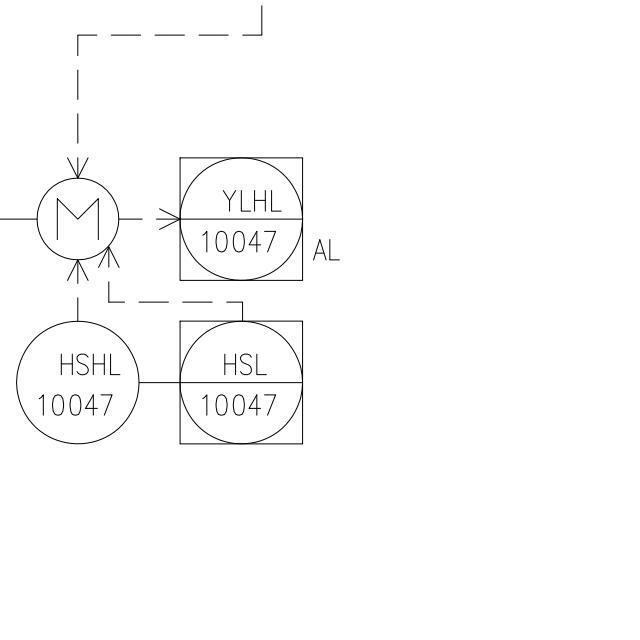M: (35, 172, 120, 262)
